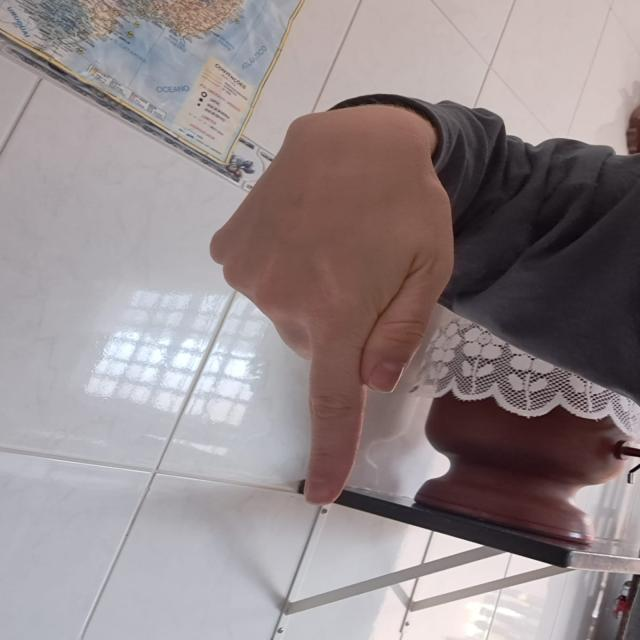Q: (204, 98, 461, 512)
